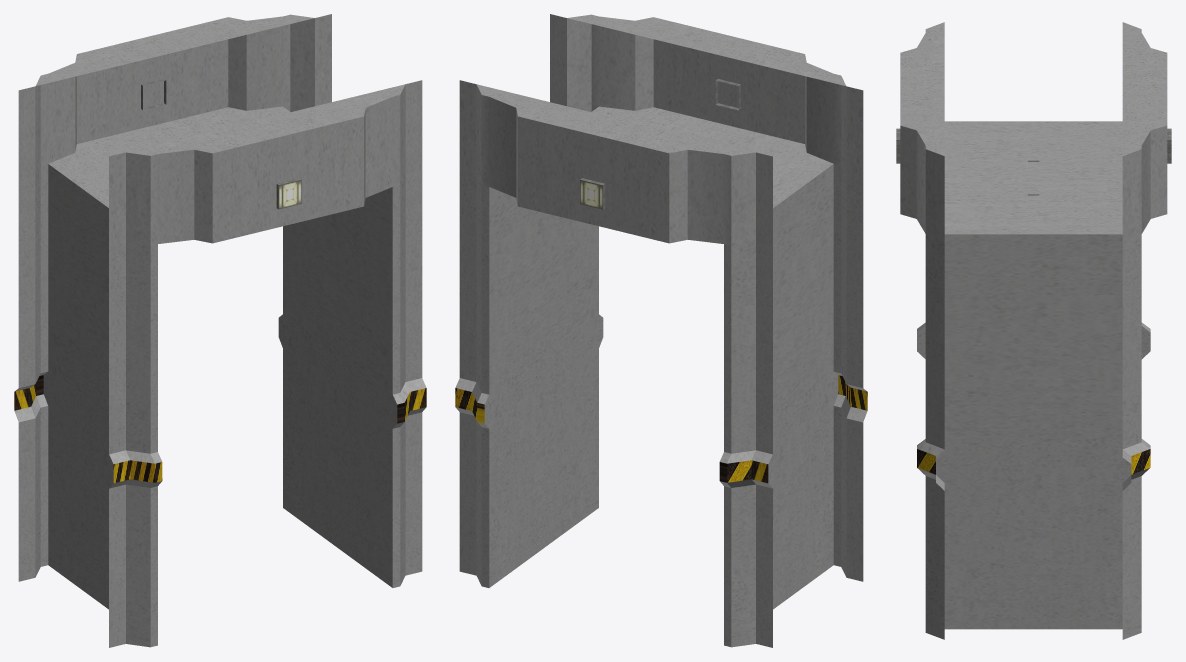
File: Wall_Big_Frame_2m.FBX
3 views of the same model, side by side, from view 1: azimuth 30°, elevation 25°; view 2: azimuth 150°, elevation 25°; view 3: azimuth 270°, elevation 25° (orthographic).
Visible parts, largest first — view 1: Wall_Big_Frame_2m_mesh; view 2: Wall_Big_Frame_2m_mesh; view 3: Wall_Big_Frame_2m_mesh.
Boxes of the visible parts, <box> form: Wall_Big_Frame_2m_mesh: <box>14,14,426,647</box>; Wall_Big_Frame_2m_mesh: <box>455,14,867,647</box>; Wall_Big_Frame_2m_mesh: <box>896,22,1171,639</box>.
Bounding box in the file's own units: 400 × 600 × 310.
3 materials, 3 textured.
